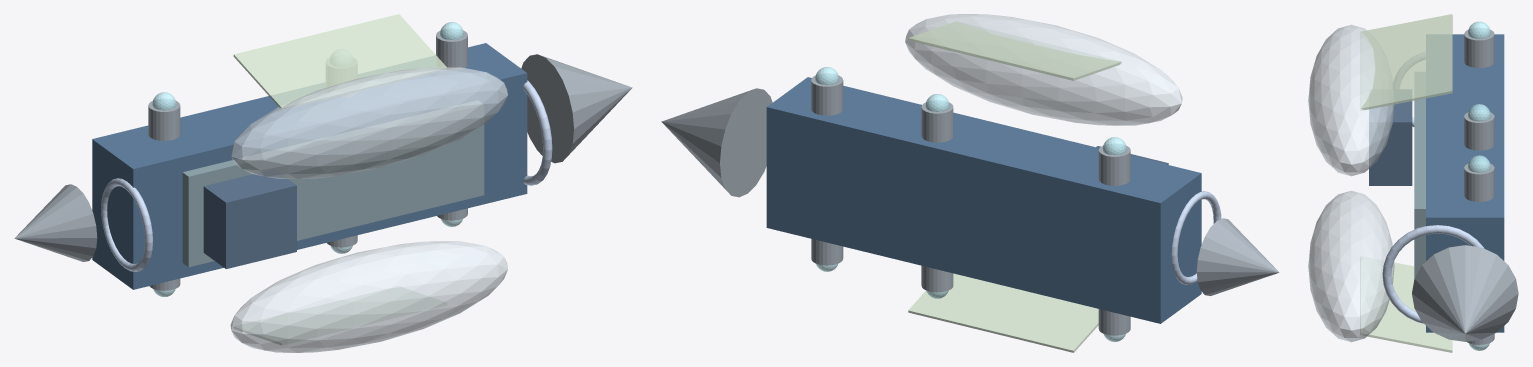
Rendered from SKYSHIP_09_DAWNLIFT_HAULER_dawnlift_hauler.glb.
3 renders of one model, left to right at view 1: azimuth 30°, elevation 25°; view 2: azimuth 150°, elevation 25°; view 3: azimuth 270°, elevation 25°, orthographic. The views are drawn at different scales.
Parts seen in each view (by area): view 1: aetherwood_hull, upper_deck, left_aether_cell, right_aether_cell, right_lift_sail, command_cabin, forward_ram, left_lift_sail, stern_finial, stern_docking_ring, right_thruster_-2.09, right_thruster_2.27 (+2 smaller); view 2: aetherwood_hull, right_aether_cell, left_lift_sail, forward_ram, right_lift_sail, stern_finial, right_thruster_-2.09, right_thruster_2.27, right_thruster_0.60, stern_docking_ring, left_thruster_-2.09, left_thruster_0.60 (+1 smaller); view 3: aetherwood_hull, left_aether_cell, right_aether_cell, forward_ram, right_lift_sail, left_lift_sail, command_cabin, upper_deck, forward_docking_ring, right_thruster_-2.09, right_thruster_0.60, right_thruster_2.27 (+4 smaller).
Part boxes in pixels (x1,y1,x2,y2): aetherwood_hull: (92, 43, 527, 289); upper_deck: (182, 100, 484, 267); left_aether_cell: (230, 241, 507, 352); right_aether_cell: (230, 67, 507, 178); right_lift_sail: (233, 14, 446, 109); command_cabin: (203, 169, 296, 268); forward_ram: (521, 54, 632, 163); left_lift_sail: (234, 286, 446, 345); stern_finial: (14, 184, 97, 261); stern_docking_ring: (101, 178, 152, 271); right_thruster_-2.09: (148, 99, 180, 140); right_thruster_2.27: (436, 29, 467, 70); aetherwood_hull: (766, 77, 1201, 323); right_aether_cell: (905, 14, 1182, 125); left_lift_sail: (908, 273, 1098, 352); forward_ram: (661, 88, 772, 197); right_lift_sail: (908, 21, 1121, 80); stern_finial: (1196, 218, 1279, 295); right_thruster_-2.09: (1098, 144, 1130, 185); right_thruster_2.27: (811, 74, 843, 115); right_thruster_0.60: (921, 101, 953, 142); stern_docking_ring: (1171, 191, 1221, 284); left_thruster_-2.09: (1098, 309, 1130, 335); left_thruster_0.60: (921, 265, 953, 292); aetherwood_hull: (1426, 34, 1504, 332); left_aether_cell: (1308, 190, 1394, 342); right_aether_cell: (1308, 24, 1394, 176); forward_ram: (1412, 245, 1518, 341); right_lift_sail: (1360, 14, 1452, 110); left_lift_sail: (1360, 256, 1452, 352); command_cabin: (1369, 90, 1412, 185); upper_deck: (1414, 72, 1425, 278); forward_docking_ring: (1382, 225, 1484, 323); right_thruster_-2.09: (1464, 28, 1494, 67); right_thruster_0.60: (1464, 110, 1494, 150); right_thruster_2.27: (1464, 162, 1494, 201).
Size of the model in its own units: 9.38 by 3.98 by 2.89.
